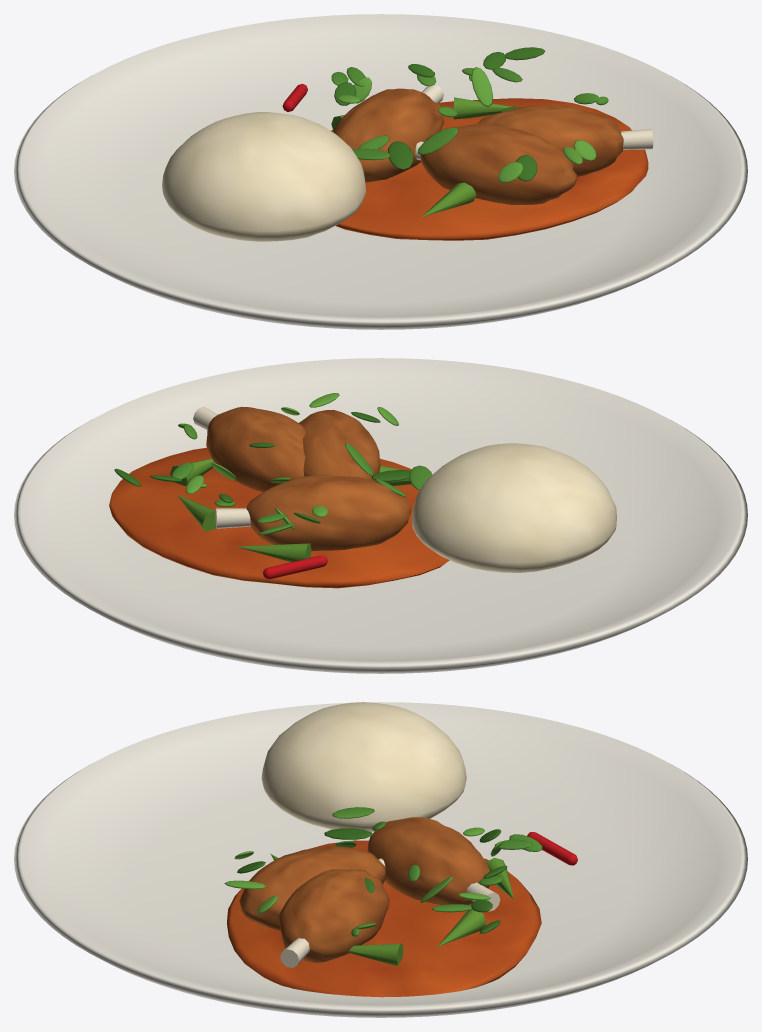
Rendered from muamba.glb.
The picture shows the model from 3 angles, top to bottom: view 1: azimuth 30°, elevation 25°; view 2: azimuth 150°, elevation 25°; view 3: azimuth 270°, elevation 25°; orthographic projection.
Bounding box in the file's own units: 0.2785 × 0.0522 × 0.2785.
